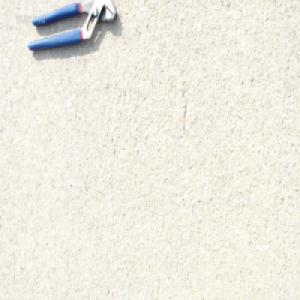Pliers: (25, 0, 118, 52)
